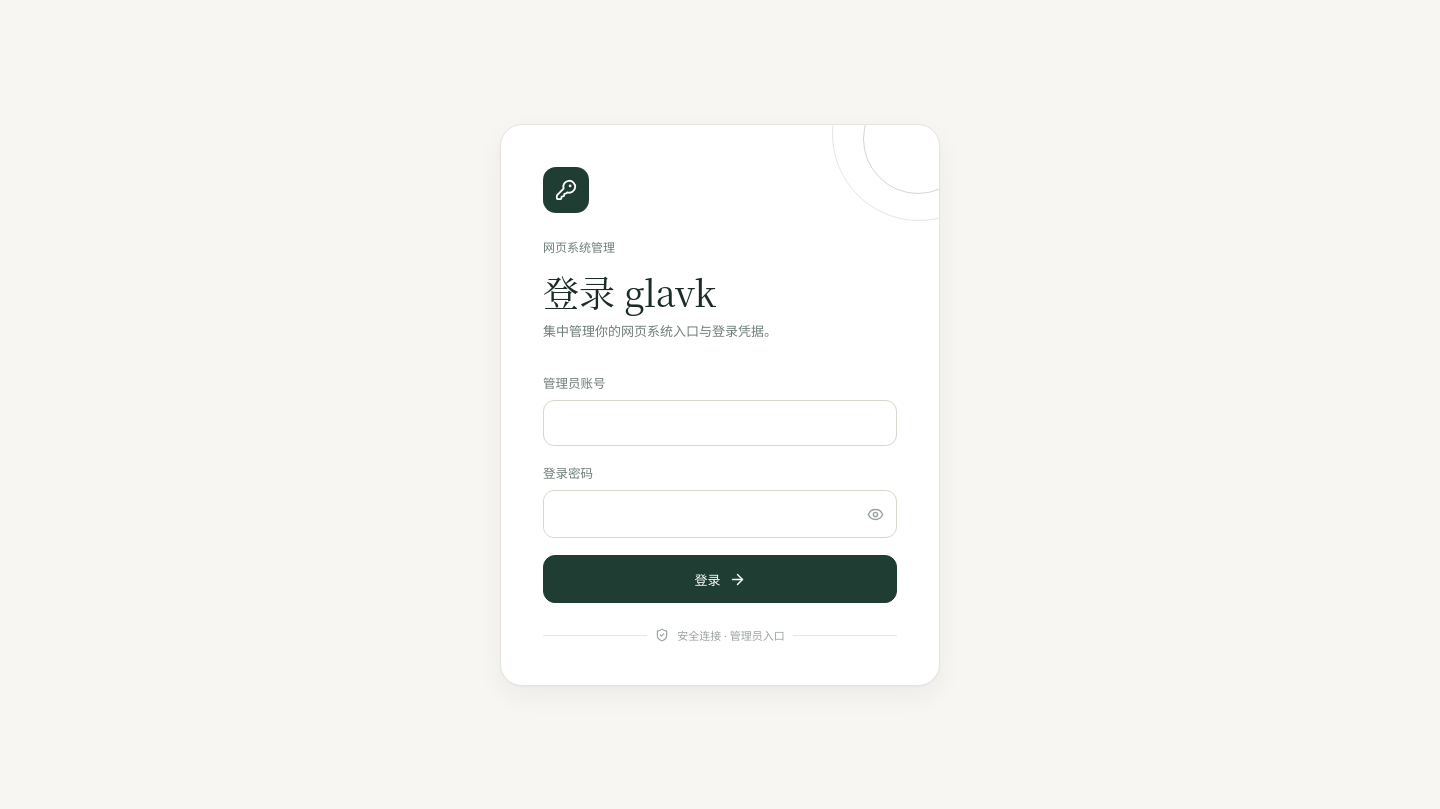
Test: glavk dashboard workflows › opens the add drawer, submits a project, and refreshes the list
Step 1. Type "admin" into the field labelled "管理员账号" → (720,423), box [543,400,897,446]
Step 2. Type "admin@123" into the password field labelled "登录密码" → (701,514), box [544,491,857,537]
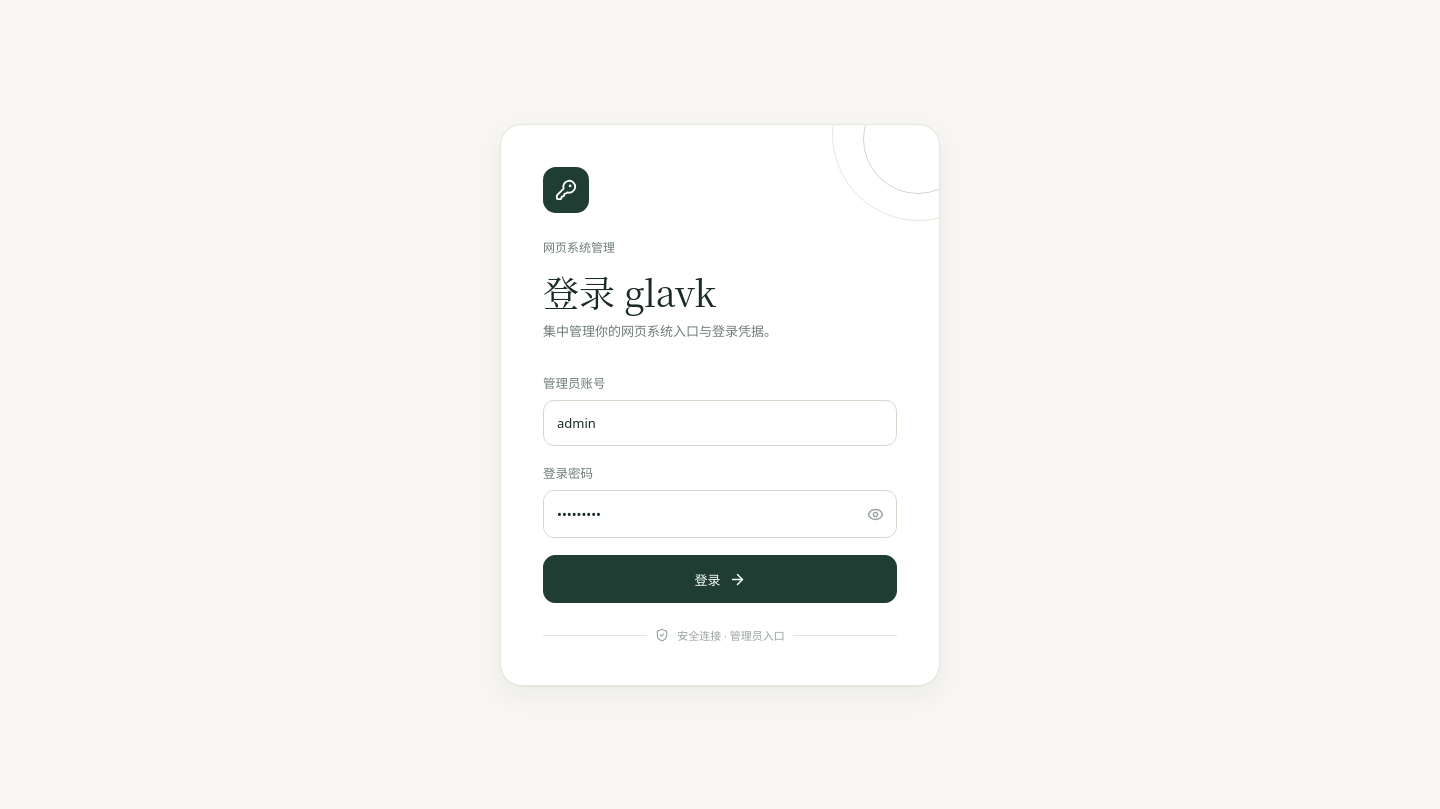
Step 3. Click the button "登录" → (720,579), box [543,555,897,603]
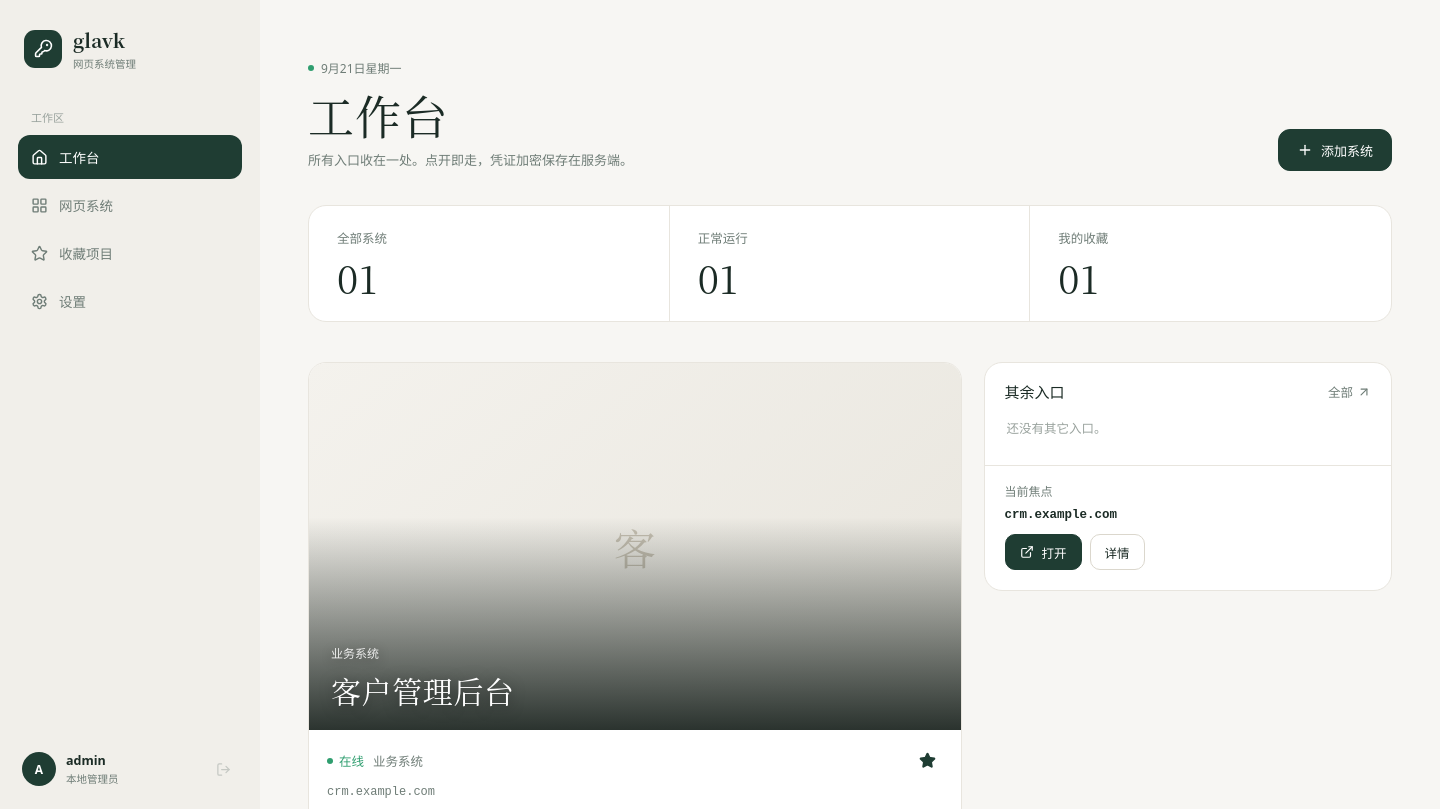
Expected: the text "客户管理后台" is shown, [331,668,515,712]
Step 4. Click the button "添加系统" → (1335,150), box [1278,129,1392,171]
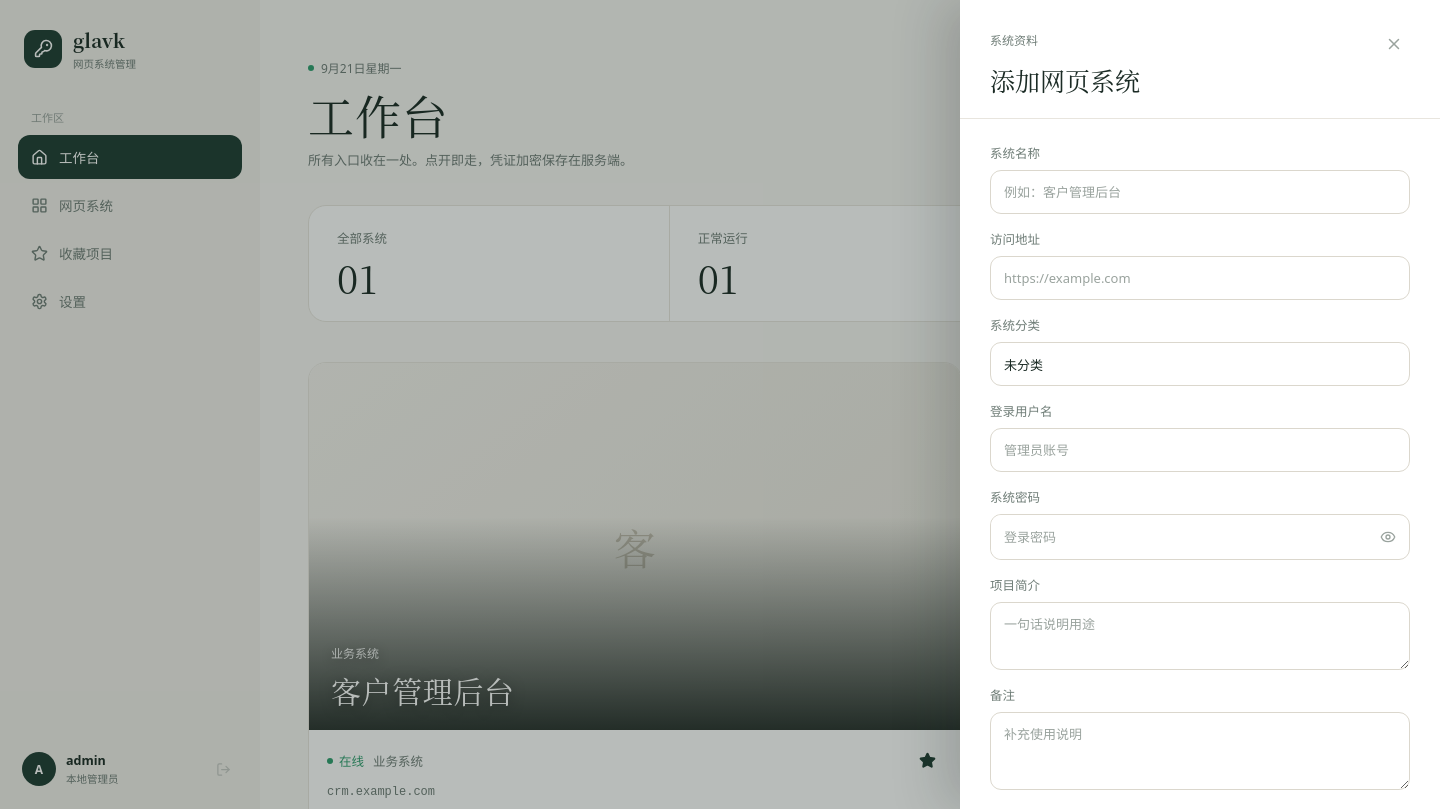
Expected: the heading "添加网页系统" is shown, [990,62,1140,98]
Step 5. Type "财务系统" into the field labelled "系统名称" → (1200,192), box [990,170,1410,214]
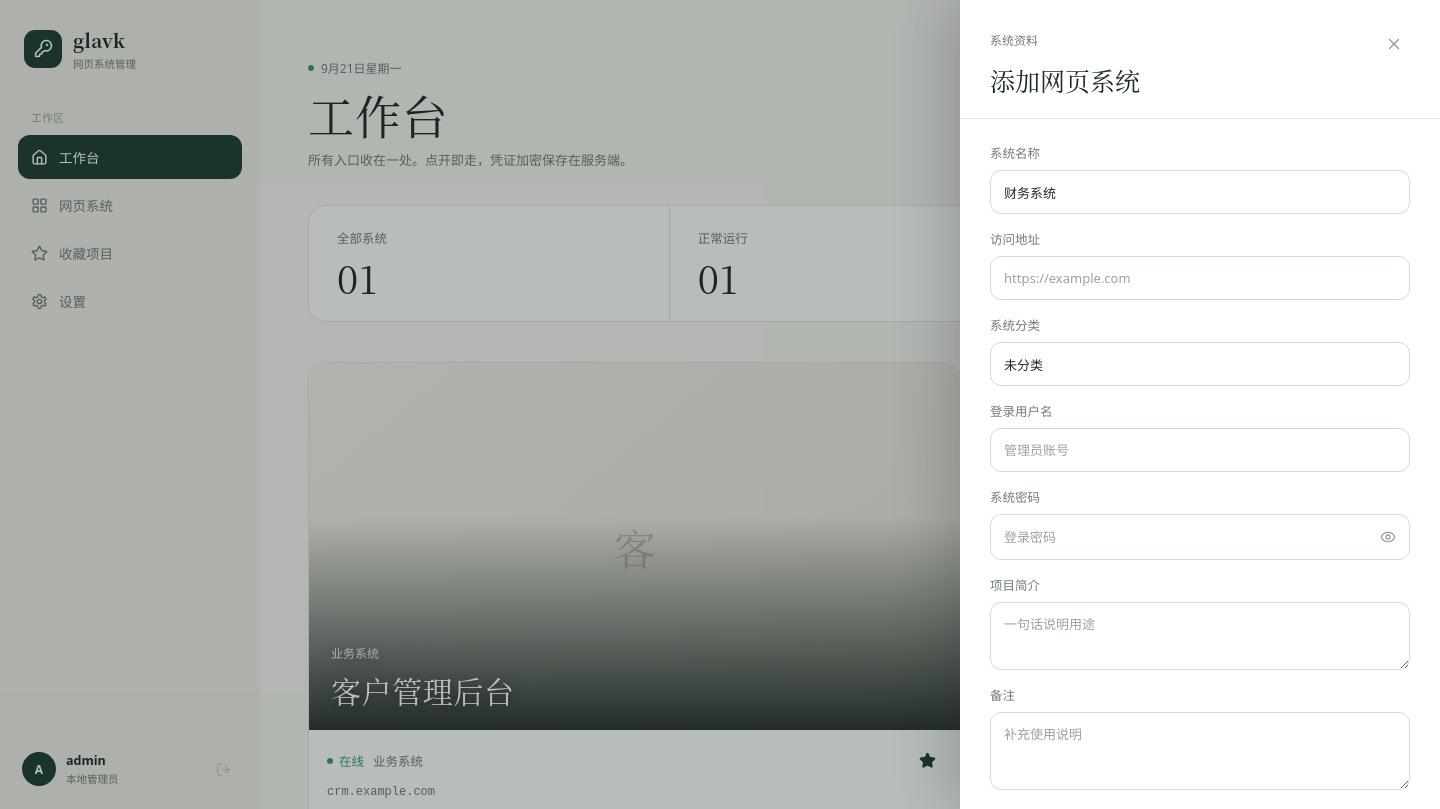
Step 6. Type "https://finance.example.com" into the field labelled "访问地址" → (1200,278), box [990,256,1410,300]
(page scrolled)
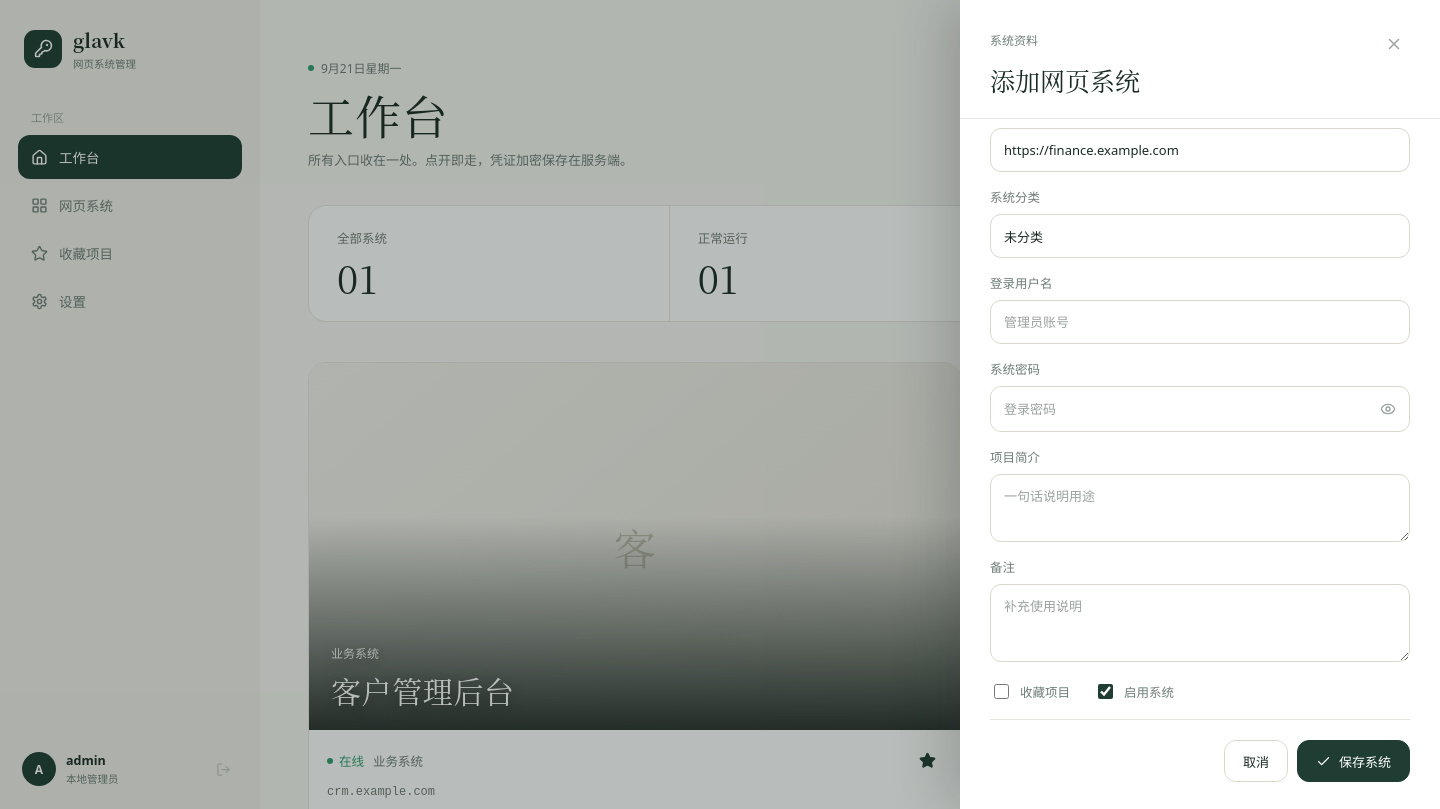
Step 7. Click the button "保存系统" → (1354,761), box [1297,740,1410,782]
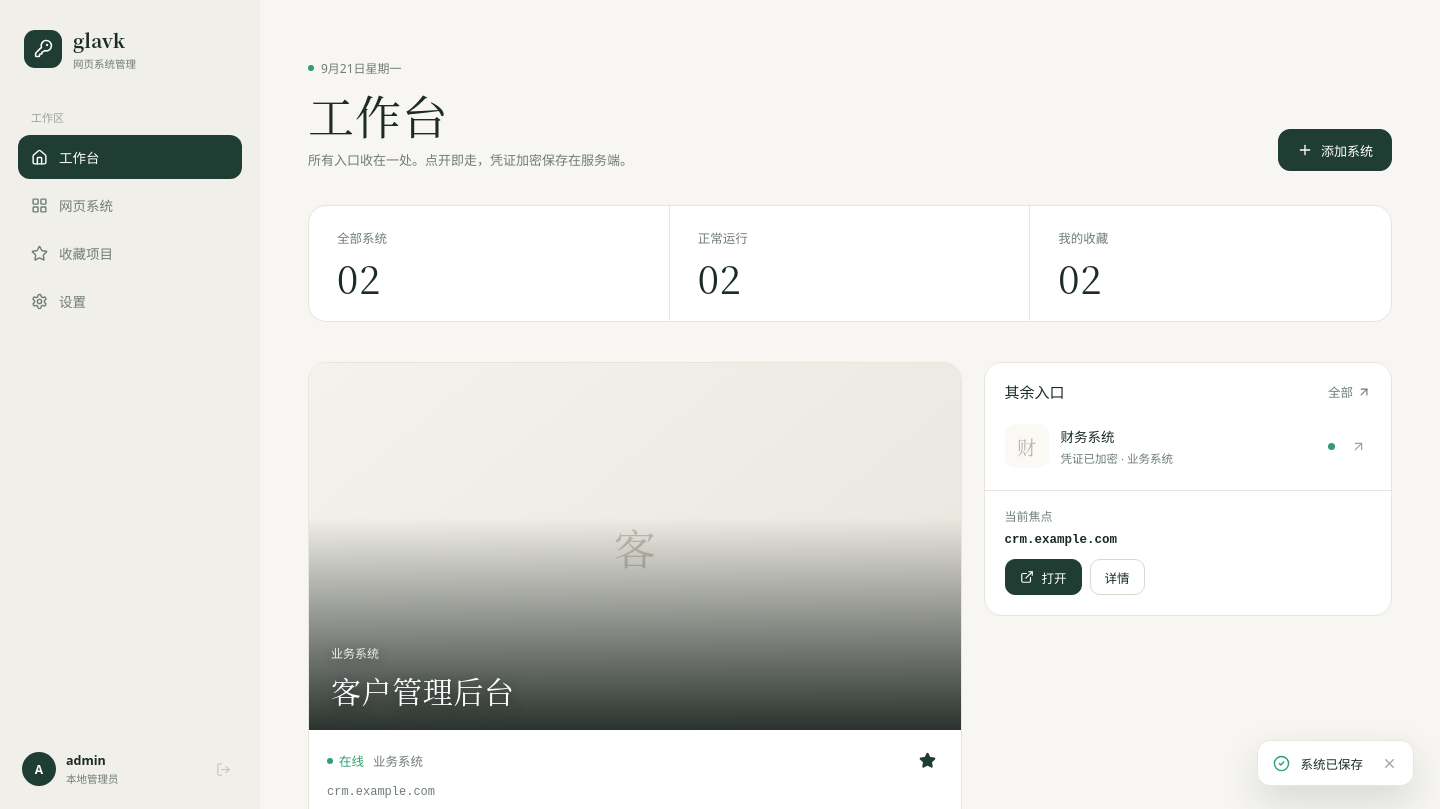
Expected: the text "财务系统" is shown, [1060,428,1114,446]
Expected: the text "系统已保存" is shown, [1300,754,1363,772]
